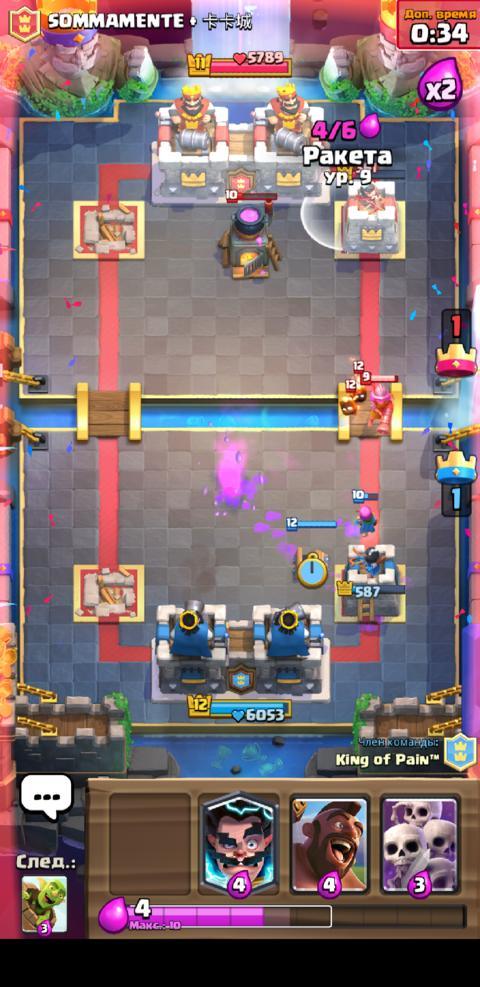ally_archer: (348, 485, 379, 537)
ally_tesla_hidden: (283, 515, 336, 577)
enemy_fire_spirit: (337, 377, 358, 416), (350, 358, 366, 403)
enemy_furnace: (214, 187, 282, 280)
enemy_musketeer: (360, 370, 399, 434)
